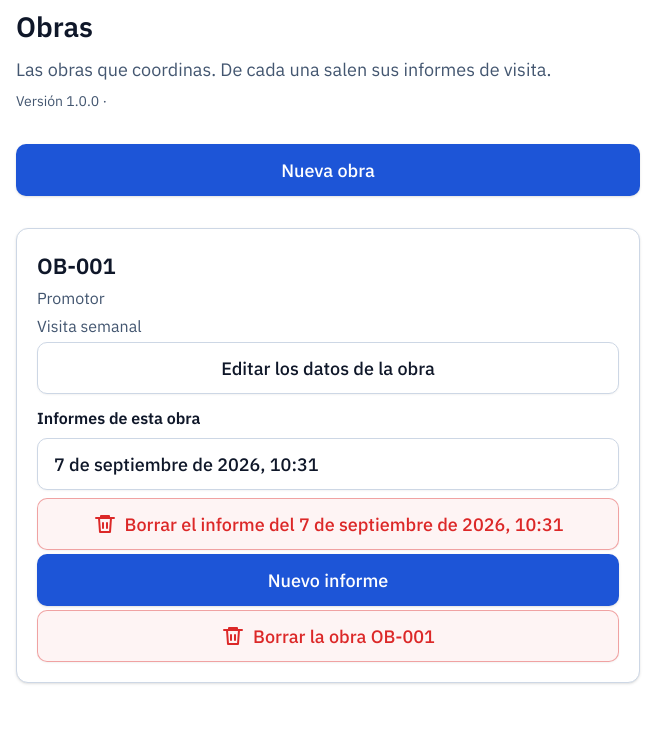
Test: ObrasPage › al borrar un informe cerrado avisa de que es la evidencia de esa visita
Expected: the text "Informes de esta obra" is shown, [37,408,200,428]
Click the button "Borrar el informe". click: point(328, 524)
box: [37,498,619,550]
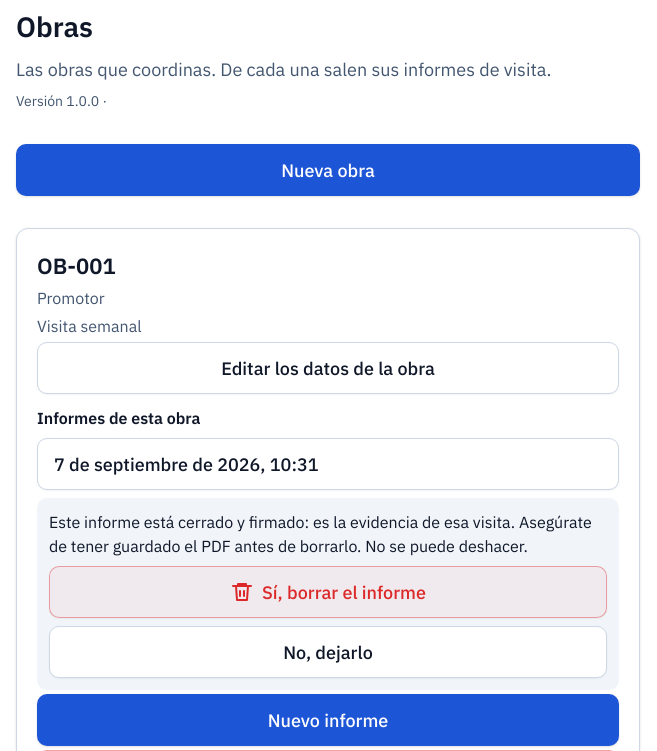
Expected: the text "PDF" is shown, [49,512,592,556]
